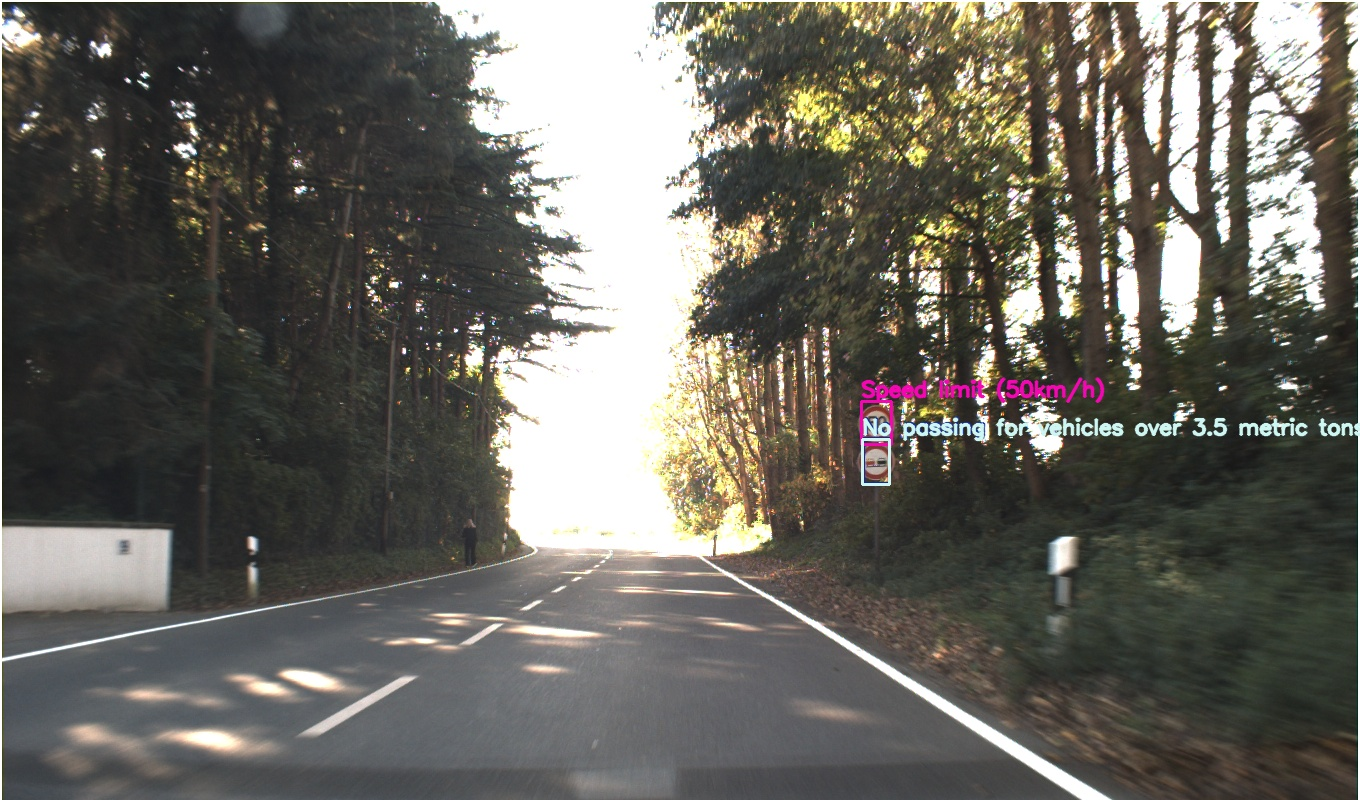Speed limit (30km/h): (453, 411, 492, 451)
